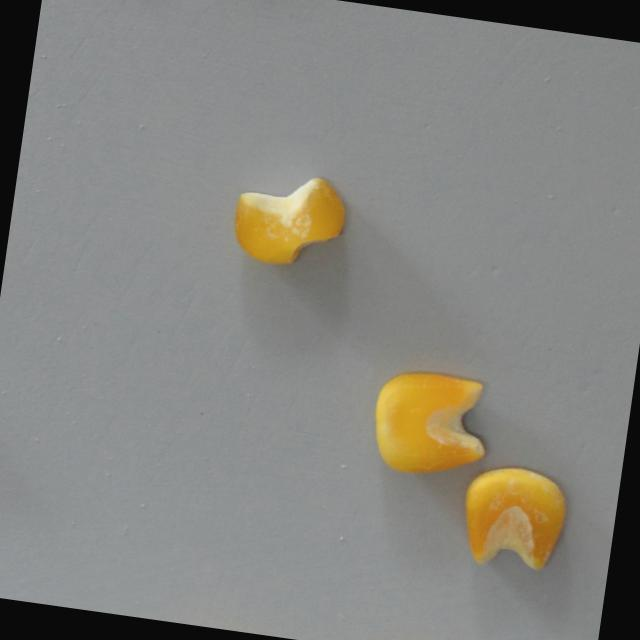no_canjicado: (367, 366, 494, 482)
pelicula: (227, 167, 351, 273), (455, 462, 569, 576)
